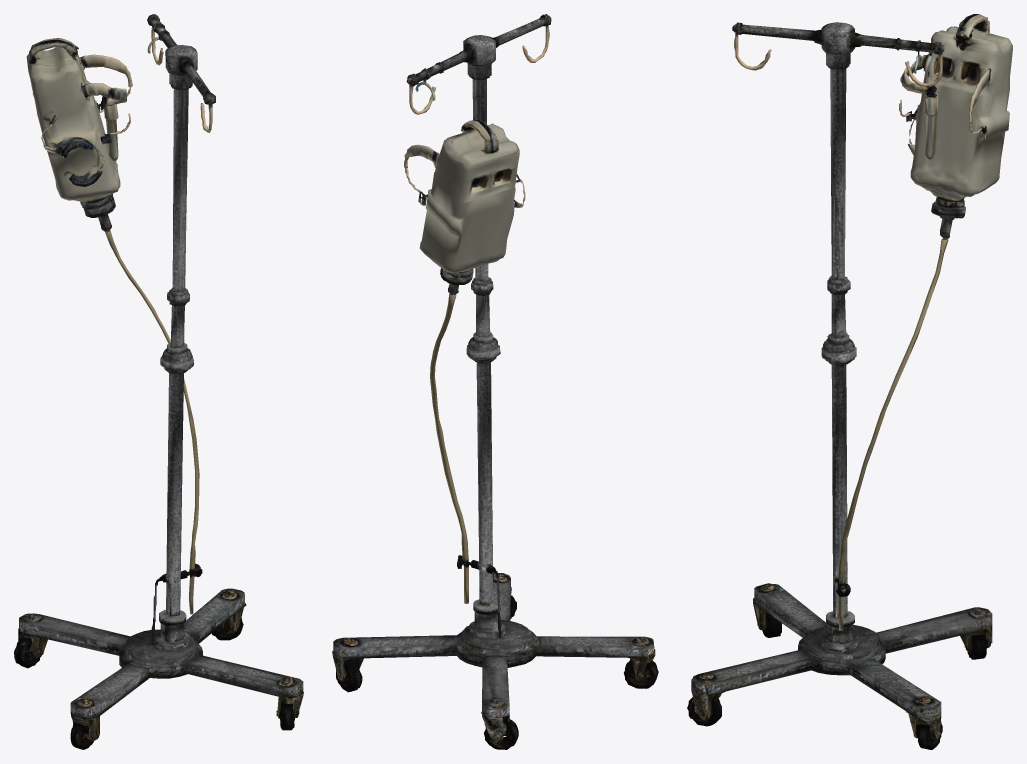
3 renders of one model, left to right at view 1: azimuth 30°, elevation 25°; view 2: azimuth 150°, elevation 25°; view 3: azimuth 270°, elevation 25°, orthographic. The views are drawn at different scales.
Parts seen in each view (by area): view 1: tripo_node_572fba43-d7e0-44ab-810e-83aac7281a9f; view 2: tripo_node_572fba43-d7e0-44ab-810e-83aac7281a9f; view 3: tripo_node_572fba43-d7e0-44ab-810e-83aac7281a9f.
Boxes of the visible parts, <box> form: tripo_node_572fba43-d7e0-44ab-810e-83aac7281a9f: <box>14,14,303,749</box>; tripo_node_572fba43-d7e0-44ab-810e-83aac7281a9f: <box>332,14,658,749</box>; tripo_node_572fba43-d7e0-44ab-810e-83aac7281a9f: <box>687,14,1012,749</box>.
Size of the model in its own units: 0.4043 by 0.998 by 0.4355.
Materials: 1 (1 with a texture image).
